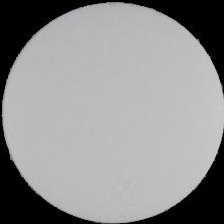54868-6333: (0, 0, 224, 224)
